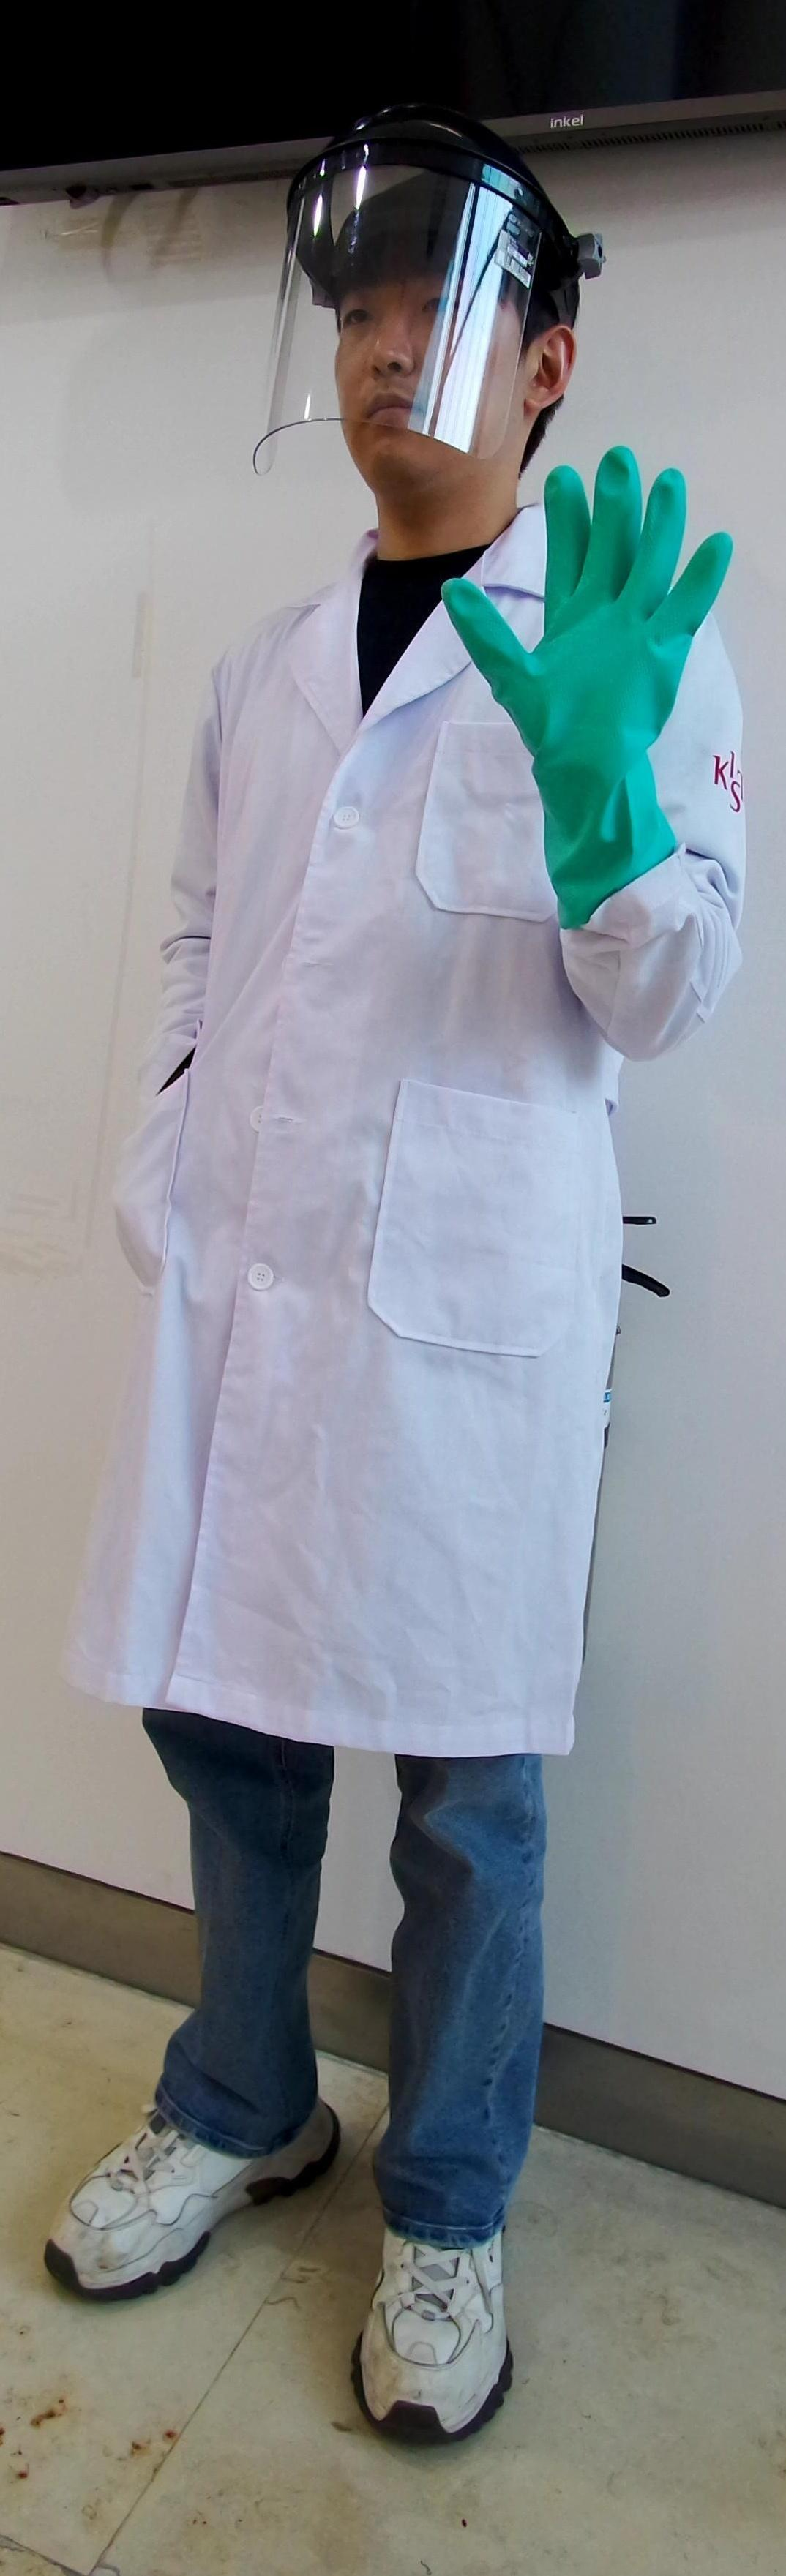lab_coat: (104, 672, 544, 1717)
